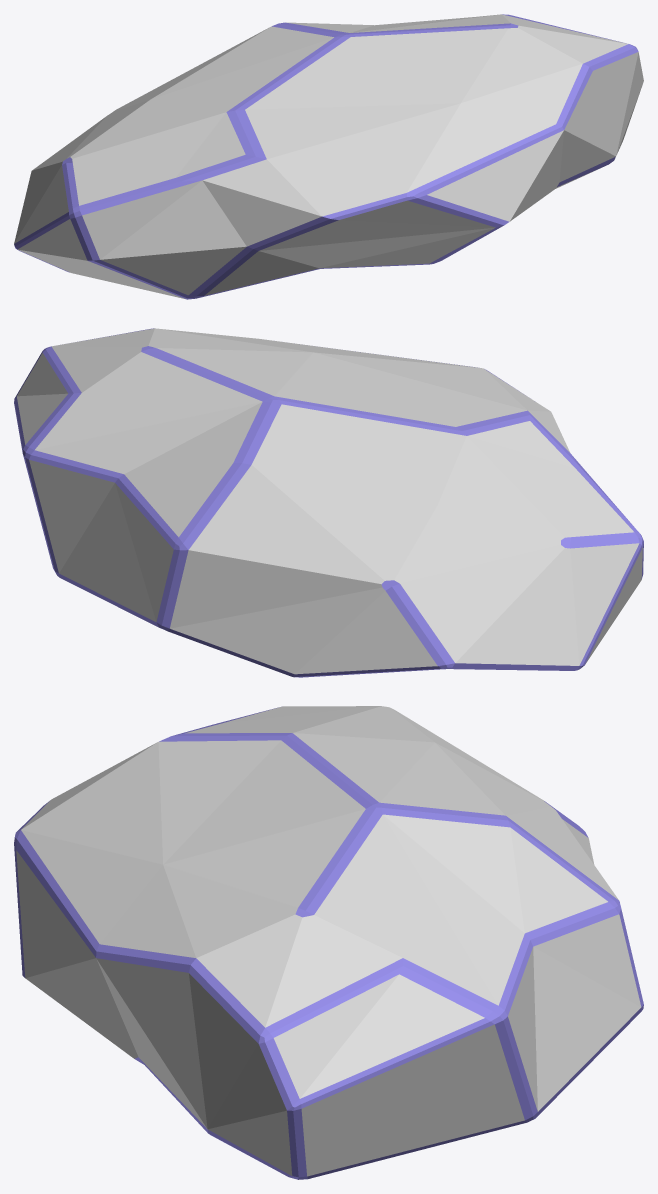
Rendered from stone_004.fbx.
3 views of the same model, one above another, from view 1: azimuth 30°, elevation 25°; view 2: azimuth 150°, elevation 25°; view 3: azimuth 270°, elevation 25° (orthographic). The views are drawn at different scales.
Parts seen in each view (by area): view 1: stone; view 2: stone; view 3: stone.
Boxes of the visible parts, x1,y1,x2,y2 form: stone: (14, 14, 643, 299); stone: (14, 328, 643, 677); stone: (14, 706, 643, 1179).
Bounding box in the file's own units: 396 × 132 × 270.
